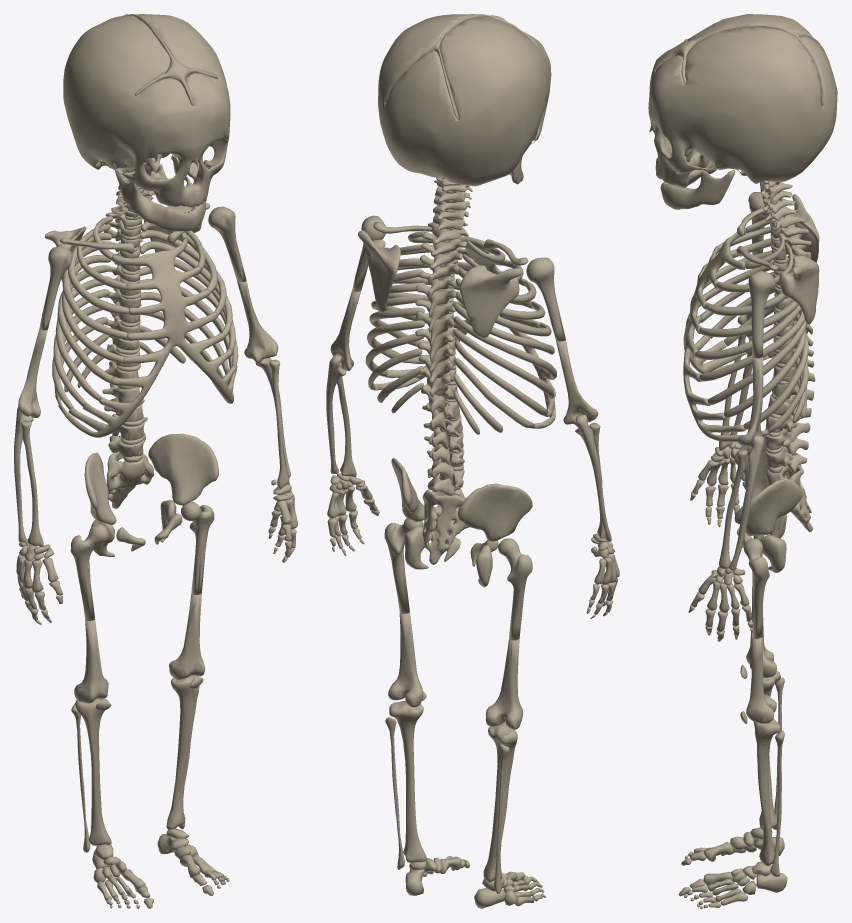
Rendered from pediatric_infant_female.skeletal.LOD1.glb.
3 renders of one model, left to right at view 1: azimuth 30°, elevation 25°; view 2: azimuth 150°, elevation 25°; view 3: azimuth 270°, elevation 25°, orthographic. The views are drawn at different scales.
Parts seen in each view (by area): view 1: PEDIATRIC.INFANT.FEMALE.SKELETAL.CRANIUM_CORTICAL, PEDIATRIC.INFANT.FEMALE.SKELETAL.RIBS_CORTICAL, PEDIATRIC.INFANT.FEMALE.SKELETAL.CARTILAGE_TRUNK, PEDIATRIC.INFANT.FEMALE.SKELETAL.PELVIS_CORTICAL, PEDIATRIC.INFANT.FEMALE.SKELETAL.TIBIAE_CORTICAL, PEDIATRIC.INFANT.FEMALE.SKELETAL.ANKLES_AND_FOOT_CORTICAL, PEDIATRIC.INFANT.FEMALE.SKELETAL.WRISTS_AND_HAND_BONES_CORTI, PEDIATRIC.INFANT.FEMALE.SKELETAL.FEMORA_LOWER_CORTICAL, PEDIATRIC.INFANT.FEMALE.SKELETAL.FEMORA_UPPER_CORTICAL, PEDIATRIC.INFANT.FEMALE.SKELETAL.THORACIC_SPINE_CORTICAL, PEDIATRIC.INFANT.FEMALE.SKELETAL.HUMERI_LOWER_CORTICAL, PEDIATRIC.INFANT.FEMALE.SKELETAL.HUMERI_UPPER_CORTICAL (+10 smaller); view 2: PEDIATRIC.INFANT.FEMALE.SKELETAL.CRANIUM_CORTICAL, PEDIATRIC.INFANT.FEMALE.SKELETAL.RIBS_CORTICAL, PEDIATRIC.INFANT.FEMALE.SKELETAL.PELVIS_CORTICAL, PEDIATRIC.INFANT.FEMALE.SKELETAL.THORACIC_SPINE_CORTICAL, PEDIATRIC.INFANT.FEMALE.SKELETAL.SCAPULAE_CORTICAL, PEDIATRIC.INFANT.FEMALE.SKELETAL.TIBIAE_CORTICAL, PEDIATRIC.INFANT.FEMALE.SKELETAL.WRISTS_AND_HAND_BONES_CORTI, PEDIATRIC.INFANT.FEMALE.SKELETAL.FEMORA_LOWER_CORTICAL, PEDIATRIC.INFANT.FEMALE.SKELETAL.CARTILAGE_TRUNK, PEDIATRIC.INFANT.FEMALE.SKELETAL.FEMORA_UPPER_CORTICAL, PEDIATRIC.INFANT.FEMALE.SKELETAL.LUMBAR_SPINE_CORTICAL, PEDIATRIC.INFANT.FEMALE.SKELETAL.ANKLES_AND_FOOT_CORTICAL (+9 smaller); view 3: PEDIATRIC.INFANT.FEMALE.SKELETAL.CRANIUM_CORTICAL, PEDIATRIC.INFANT.FEMALE.SKELETAL.RIBS_CORTICAL, PEDIATRIC.INFANT.FEMALE.SKELETAL.CARTILAGE_TRUNK, PEDIATRIC.INFANT.FEMALE.SKELETAL.WRISTS_AND_HAND_BONES_CORTI, PEDIATRIC.INFANT.FEMALE.SKELETAL.ANKLES_AND_FOOT_CORTICAL, PEDIATRIC.INFANT.FEMALE.SKELETAL.PELVIS_CORTICAL, PEDIATRIC.INFANT.FEMALE.SKELETAL.SCAPULAE_CORTICAL, PEDIATRIC.INFANT.FEMALE.SKELETAL.TIBIAE_CORTICAL, PEDIATRIC.INFANT.FEMALE.SKELETAL.LUMBAR_SPINE_CORTICAL, PEDIATRIC.INFANT.FEMALE.SKELETAL.FEMORA_LOWER_CORTICAL, PEDIATRIC.INFANT.FEMALE.SKELETAL.THORACIC_SPINE_CORTICAL, PEDIATRIC.INFANT.FEMALE.SKELETAL.MANDIBLE_CORTICAL (+10 smaller).
Part boxes in pixels (x1,y1,x2,y2): PEDIATRIC.INFANT.FEMALE.SKELETAL.CRANIUM_CORTICAL: (63,14,230,207); PEDIATRIC.INFANT.FEMALE.SKELETAL.RIBS_CORTICAL: (52,216,238,409); PEDIATRIC.INFANT.FEMALE.SKELETAL.CARTILAGE_TRUNK: (58,187,237,462); PEDIATRIC.INFANT.FEMALE.SKELETAL.PELVIS_CORTICAL: (84,433,218,556); PEDIATRIC.INFANT.FEMALE.SKELETAL.TIBIAE_CORTICAL: (75,675,199,845); PEDIATRIC.INFANT.FEMALE.SKELETAL.ANKLES_AND_FOOT_CORTICAL: (92,828,229,908); PEDIATRIC.INFANT.FEMALE.SKELETAL.WRISTS_AND_HAND_BONES_CORTI: (16,478,297,624); PEDIATRIC.INFANT.FEMALE.SKELETAL.FEMORA_LOWER_CORTICAL: (74,593,205,703); PEDIATRIC.INFANT.FEMALE.SKELETAL.FEMORA_UPPER_CORTICAL: (70,501,214,620); PEDIATRIC.INFANT.FEMALE.SKELETAL.THORACIC_SPINE_CORTICAL: (104,211,142,366); PEDIATRIC.INFANT.FEMALE.SKELETAL.HUMERI_LOWER_CORTICAL: (18,281,278,417); PEDIATRIC.INFANT.FEMALE.SKELETAL.HUMERI_UPPER_CORTICAL: (39,206,246,330); PEDIATRIC.INFANT.FEMALE.SKELETAL.CRANIUM_CORTICAL: (378,14,551,186); PEDIATRIC.INFANT.FEMALE.SKELETAL.RIBS_CORTICAL: (365,230,556,434); PEDIATRIC.INFANT.FEMALE.SKELETAL.PELVIS_CORTICAL: (391,458,532,587); PEDIATRIC.INFANT.FEMALE.SKELETAL.THORACIC_SPINE_CORTICAL: (415,232,467,412); PEDIATRIC.INFANT.FEMALE.SKELETAL.SCAPULAE_CORTICAL: (358,230,522,337); PEDIATRIC.INFANT.FEMALE.SKELETAL.TIBIAE_CORTICAL: (389,701,517,882); PEDIATRIC.INFANT.FEMALE.SKELETAL.WRISTS_AND_HAND_BONES_CORTI: (327,473,619,618); PEDIATRIC.INFANT.FEMALE.SKELETAL.FEMORA_LOWER_CORTICAL: (388,612,522,729); PEDIATRIC.INFANT.FEMALE.SKELETAL.CARTILAGE_TRUNK: (374,191,556,490); PEDIATRIC.INFANT.FEMALE.SKELETAL.FEMORA_UPPER_CORTICAL: (384,518,532,640); PEDIATRIC.INFANT.FEMALE.SKELETAL.LUMBAR_SPINE_CORTICAL: (422,401,464,495); PEDIATRIC.INFANT.FEMALE.SKELETAL.ANKLES_AND_FOOT_CORTICAL: (405,856,545,908); PEDIATRIC.INFANT.FEMALE.SKELETAL.CRANIUM_CORTICAL: (648,14,837,186); PEDIATRIC.INFANT.FEMALE.SKELETAL.RIBS_CORTICAL: (695,218,808,433); PEDIATRIC.INFANT.FEMALE.SKELETAL.CARTILAGE_TRUNK: (683,183,790,473); PEDIATRIC.INFANT.FEMALE.SKELETAL.WRISTS_AND_HAND_BONES_CORTI: (688,441,753,641); PEDIATRIC.INFANT.FEMALE.SKELETAL.ANKLES_AND_FOOT_CORTICAL: (678,827,787,908); PEDIATRIC.INFANT.FEMALE.SKELETAL.PELVIS_CORTICAL: (734,435,802,572); PEDIATRIC.INFANT.FEMALE.SKELETAL.SCAPULAE_CORTICAL: (779,194,819,324); PEDIATRIC.INFANT.FEMALE.SKELETAL.TIBIAE_CORTICAL: (753,671,780,865); PEDIATRIC.INFANT.FEMALE.SKELETAL.LUMBAR_SPINE_CORTICAL: (765,383,814,473); PEDIATRIC.INFANT.FEMALE.SKELETAL.FEMORA_LOWER_CORTICAL: (746,585,776,723); PEDIATRIC.INFANT.FEMALE.SKELETAL.THORACIC_SPINE_CORTICAL: (770,214,815,381); PEDIATRIC.INFANT.FEMALE.SKELETAL.MANDIBLE_CORTICAL: (660,161,735,209).
Size of the model in its own units: 0.2516 by 0.7558 by 0.151.
